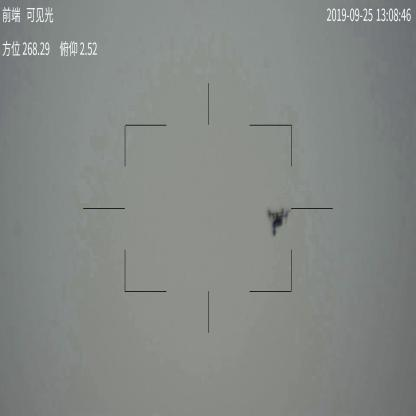uav: (266, 205, 289, 238)
